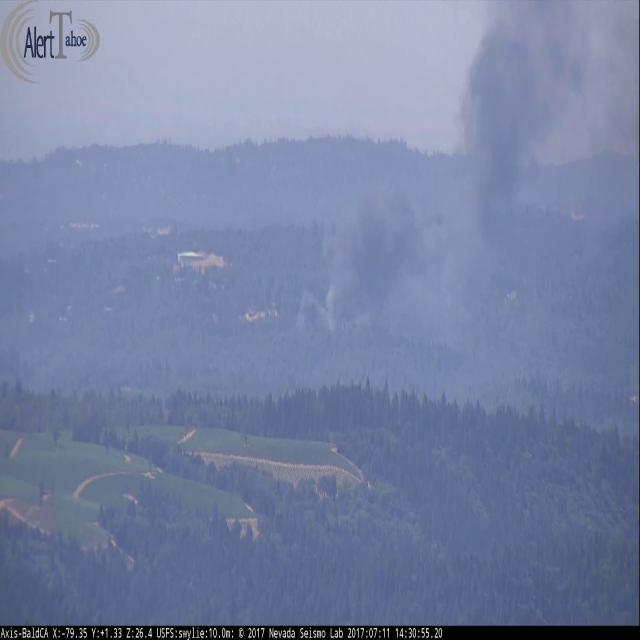smoke: (291, 0, 640, 336)
